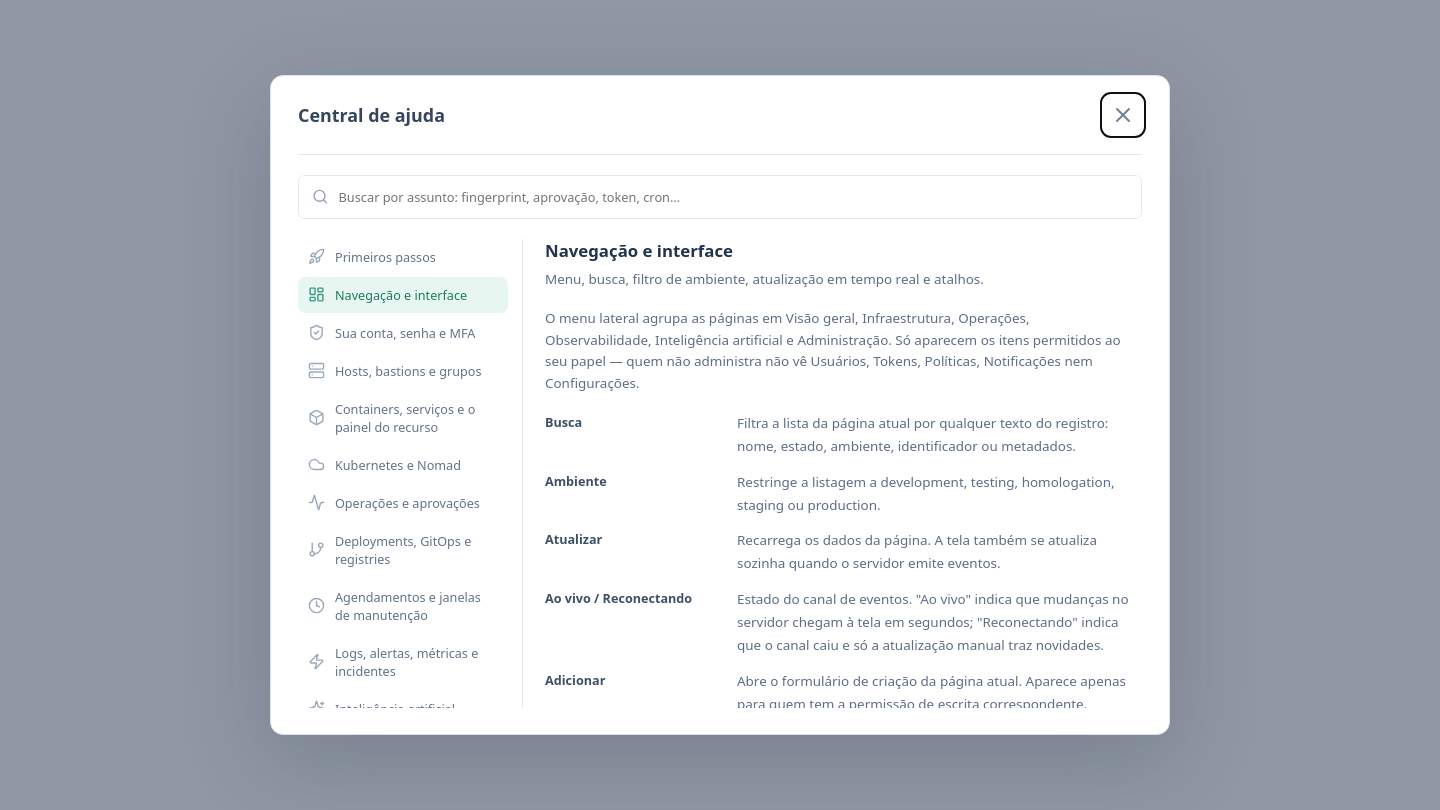
Test: central de ajuda › searches the body of every topic, not only titles
In the field named "Buscar na ajuda": coordinates (733, 197) [338,176,1128,218], type "fingerprint"
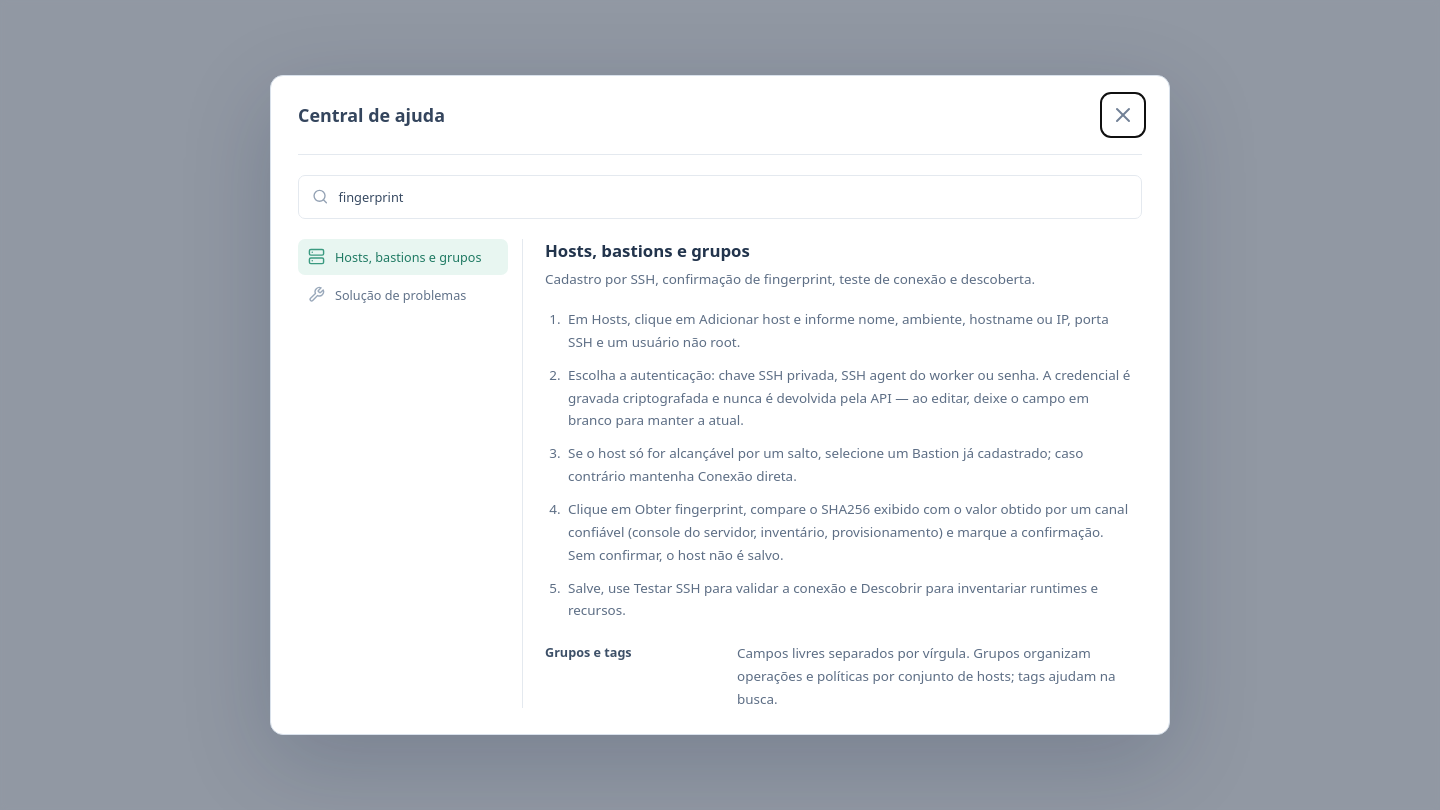
Result: the heading "Hosts, bastions e grupos" is shown at [545,239,750,262]
